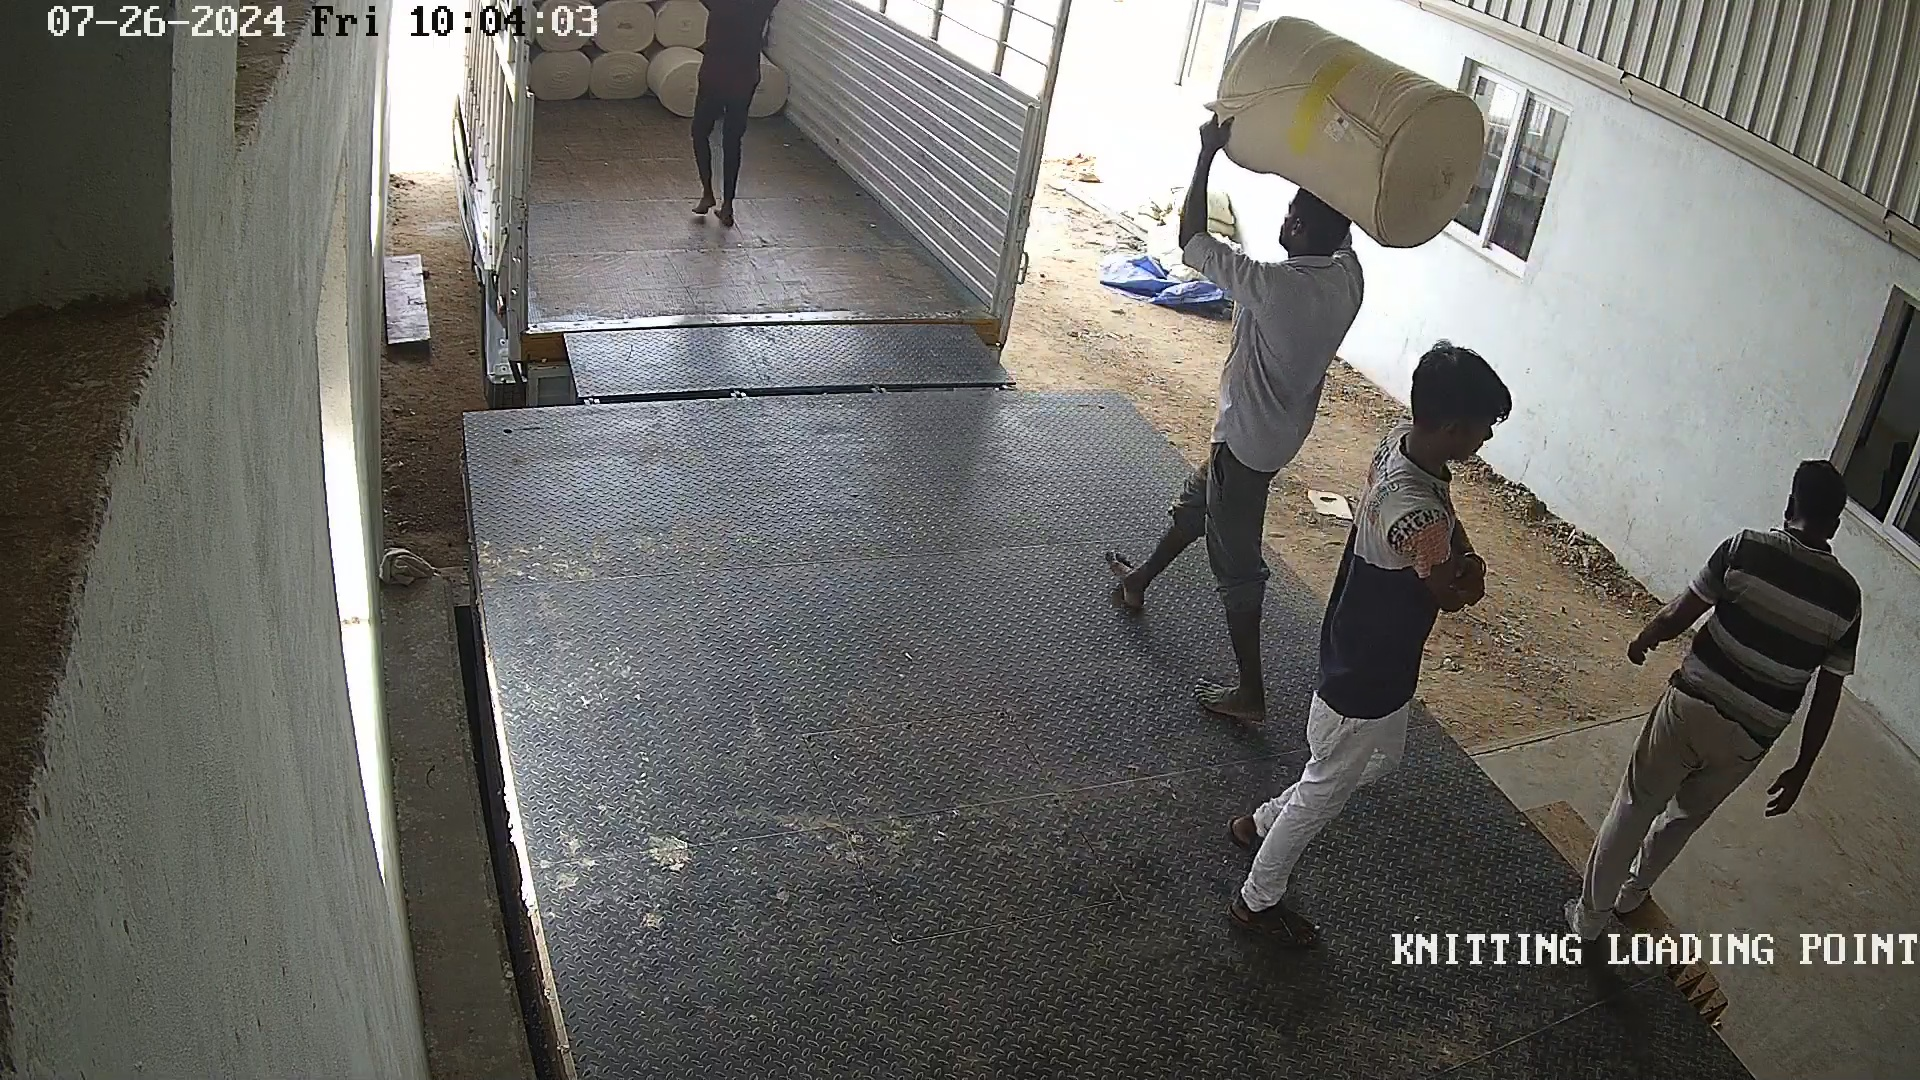bag: (1203, 9, 1491, 255)
